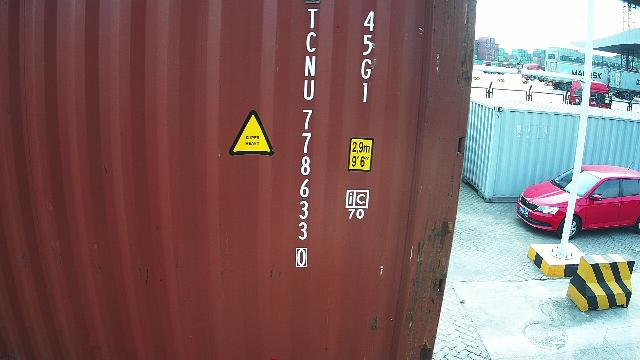0: (296, 248, 308, 266)
3: (299, 200, 309, 220), (298, 222, 308, 241)
6: (300, 178, 310, 198)
7: (302, 109, 314, 130), (302, 132, 312, 154)
8: (301, 156, 311, 176)
C: (306, 31, 318, 53)
N: (304, 55, 316, 76)
T: (307, 7, 319, 29)
U: (303, 80, 315, 100)
